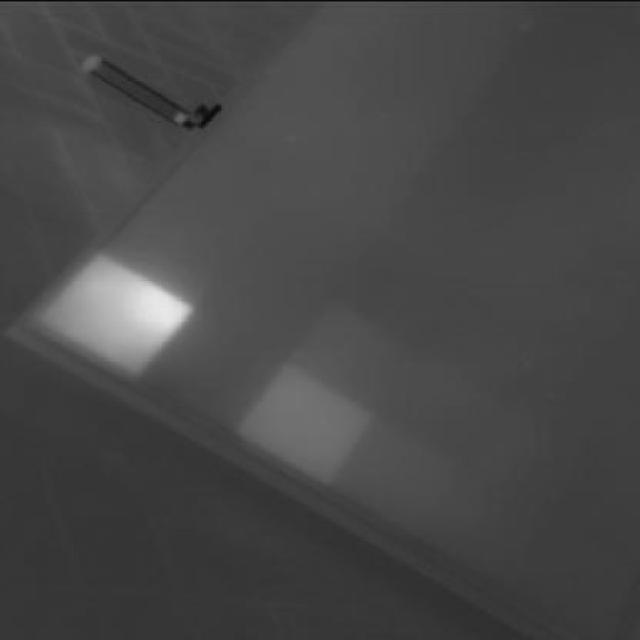hotspot: (29, 234, 202, 380)
